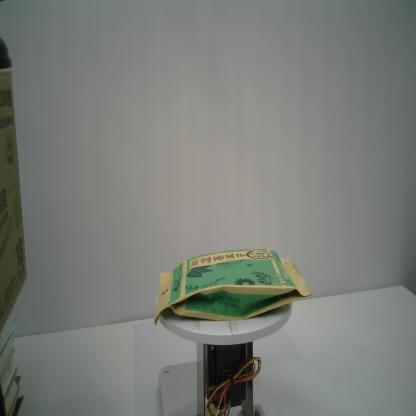Dried Food: (152, 248, 312, 328)
